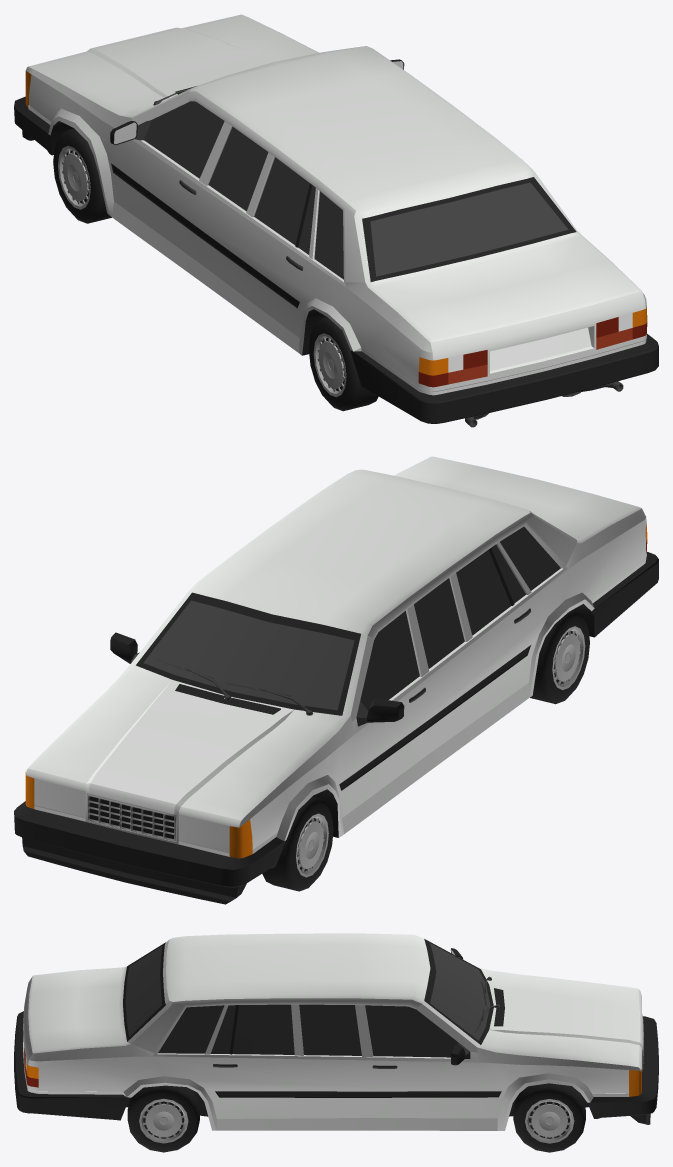
File: m8_long_sedan_silver.glb
3 views of the same model, one above another, from view 1: azimuth 30°, elevation 25°; view 2: azimuth 150°, elevation 25°; view 3: azimuth 270°, elevation 25° (orthographic). The views are drawn at different scales.
Visible parts, largest first — view 1: Body, Wheel_RL, Wheel_FL; view 2: Body, Wheel_FL, Wheel_RL; view 3: Body, Wheel_FR, Wheel_RR.
Boxes of the visible parts, <box> form: Body: <box>14,14,658,423</box>; Wheel_RL: <box>309,316,378,411</box>; Wheel_FL: <box>53,128,111,223</box>; Body: <box>14,456,658,904</box>; Wheel_FL: <box>262,796,333,891</box>; Wheel_RL: <box>530,610,589,704</box>; Body: <box>14,933,658,1130</box>; Wheel_FR: <box>513,1083,585,1152</box>; Wheel_RR: <box>127,1085,199,1152</box>.
Size of the model in its own units: 2.13 by 1.36 by 5.41.
Materials: 1 (1 with a texture image).
